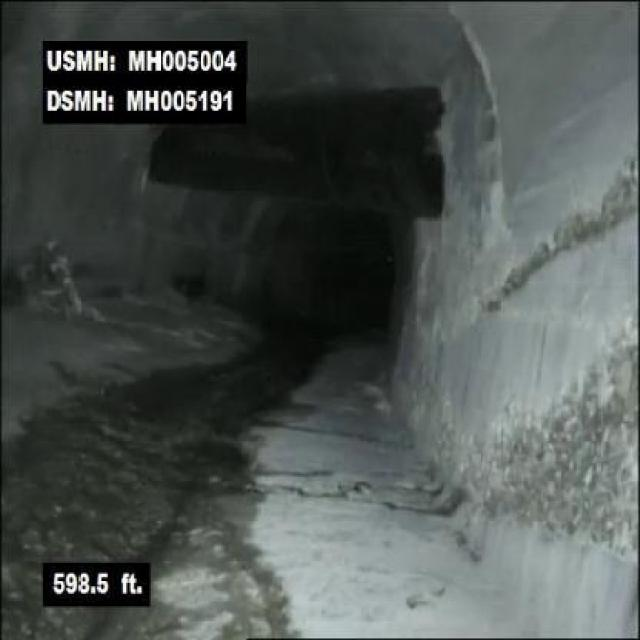Crack: (483, 184, 637, 316), (263, 463, 446, 517)
Debris: (14, 229, 98, 320)
Utility intrusion: (143, 82, 452, 223)
